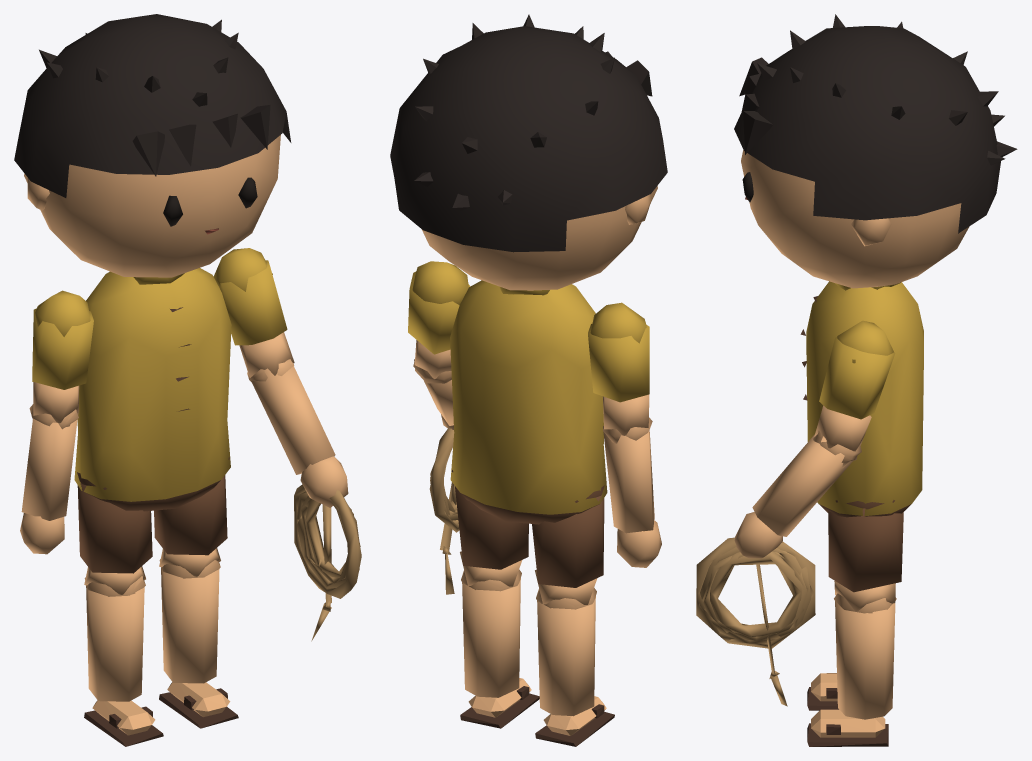
The model's file is isan_buffalo_boy.glb.
3 renders of one model, left to right at view 1: azimuth 30°, elevation 25°; view 2: azimuth 150°, elevation 25°; view 3: azimuth 270°, elevation 25°, orthographic.
Parts seen in each view (by area): view 1: head, body, shin_R, shin_L, arm_R, arm_L, leg_R, forearm_L, forearm_R, leg_L, prop_rope_coil; view 2: head, body, shin_R, shin_L, arm_R, leg_R, forearm_R, arm_L, leg_L, prop_rope_coil, forearm_L; view 3: head, body, shin_L, prop_rope_coil, arm_L, leg_L, forearm_L, shin_R.
Boxes of the visible parts, box(x1,y1,x2,y2) form: head: box(14, 14, 291, 277); body: box(74, 268, 231, 511); shin_R: box(84, 576, 163, 746); shin_L: box(159, 559, 238, 728); arm_R: box(29, 290, 93, 429); arm_L: box(213, 248, 294, 381); leg_R: box(77, 472, 152, 596); forearm_L: box(250, 359, 348, 507); forearm_R: box(20, 409, 77, 554); leg_L: box(154, 457, 229, 578); prop_rope_coil: box(294, 484, 361, 641); head: box(390, 14, 667, 290); body: box(450, 280, 607, 524); shin_R: box(535, 592, 614, 746); shin_L: box(460, 571, 539, 728); arm_R: box(588, 302, 652, 443); leg_R: box(532, 485, 604, 609); forearm_R: box(603, 426, 661, 567); arm_L: box(408, 261, 470, 383); leg_L: box(451, 470, 528, 591); prop_rope_coil: box(429, 427, 459, 594); forearm_L: box(414, 359, 453, 429); head: box(734, 14, 1017, 288); body: box(800, 281, 923, 517); shin_L: box(807, 594, 895, 746); prop_rope_coil: box(696, 537, 815, 706); arm_L: box(813, 320, 895, 468); leg_L: box(828, 500, 903, 613); forearm_L: box(734, 430, 857, 558); shin_R: box(807, 673, 838, 710).
Bounding box in the file's own units: 0.5349 × 1.31 × 0.5598.
